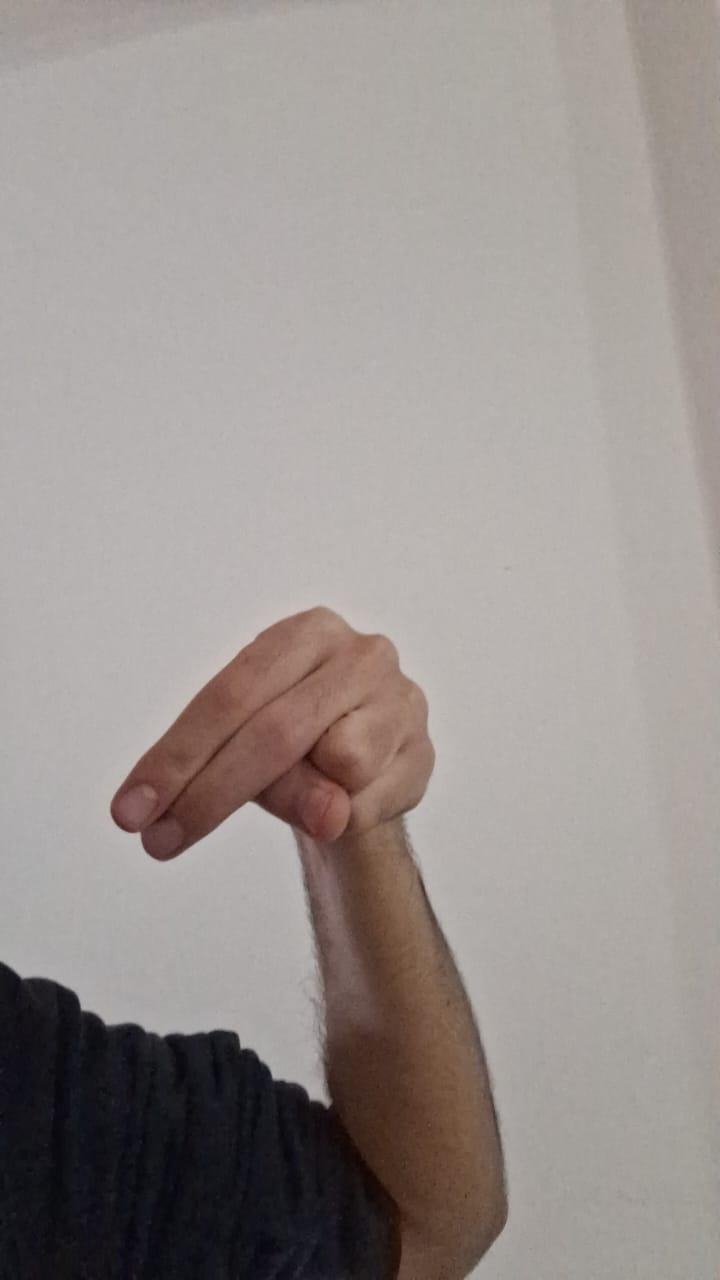N: (103, 580, 443, 877)
